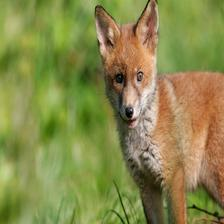fox: (83, 0, 224, 224)
